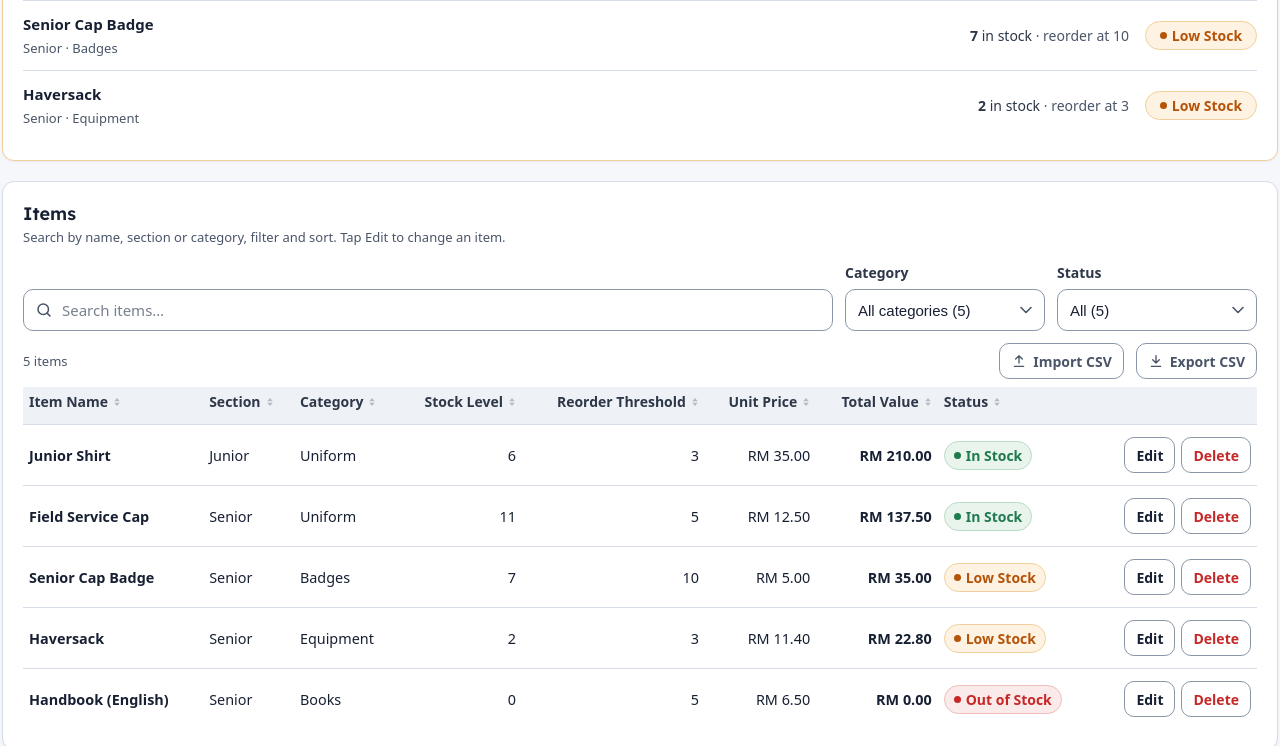
the app › edits a row; Total Value and Status update instantly as Stock or Price change
(page scrolled)
Click the button with aria-label "Edit Haversack". click: (1150, 638)
box: [1124,620,1176,656]
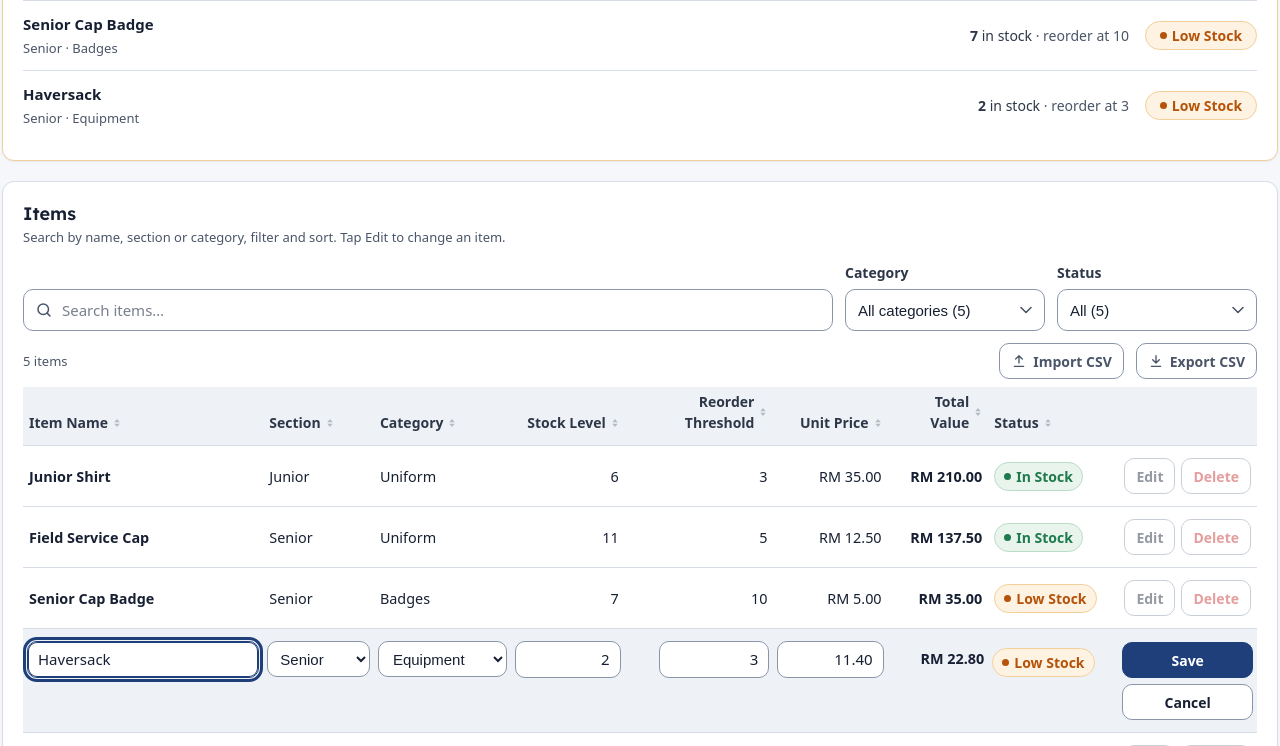
Expected: the cell "RM 22.80" is shown, [888,629,988,733]
Replace the text in the field named "Stock level" with "10". click: (568, 660)
box: [516,641,621,678]
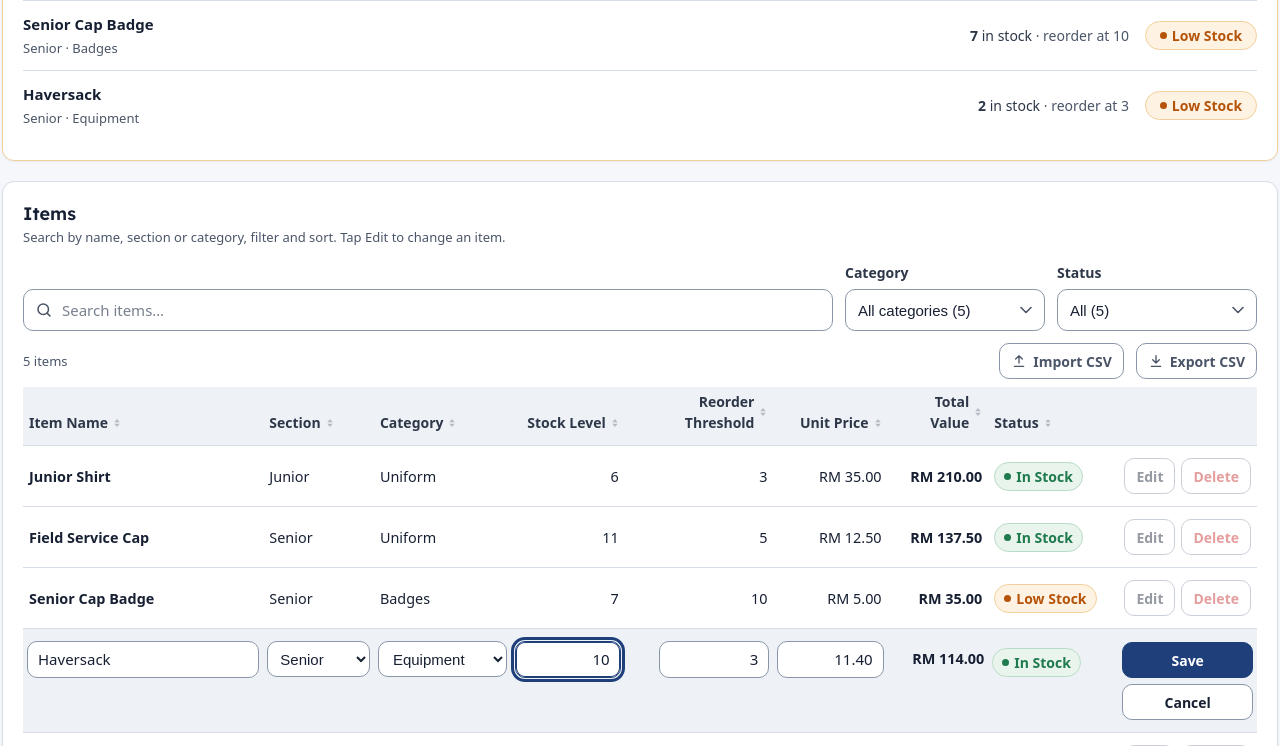
Expected: the cell "RM 114.00" is shown, [888,629,988,733]
Expected: the cell "In Stock" next to "RM 114.00" is shown, [1014,653,1071,672]
Replace the text in the field named "Unit price (RM)" with "12". click: (830, 660)
box: [777,641,884,678]
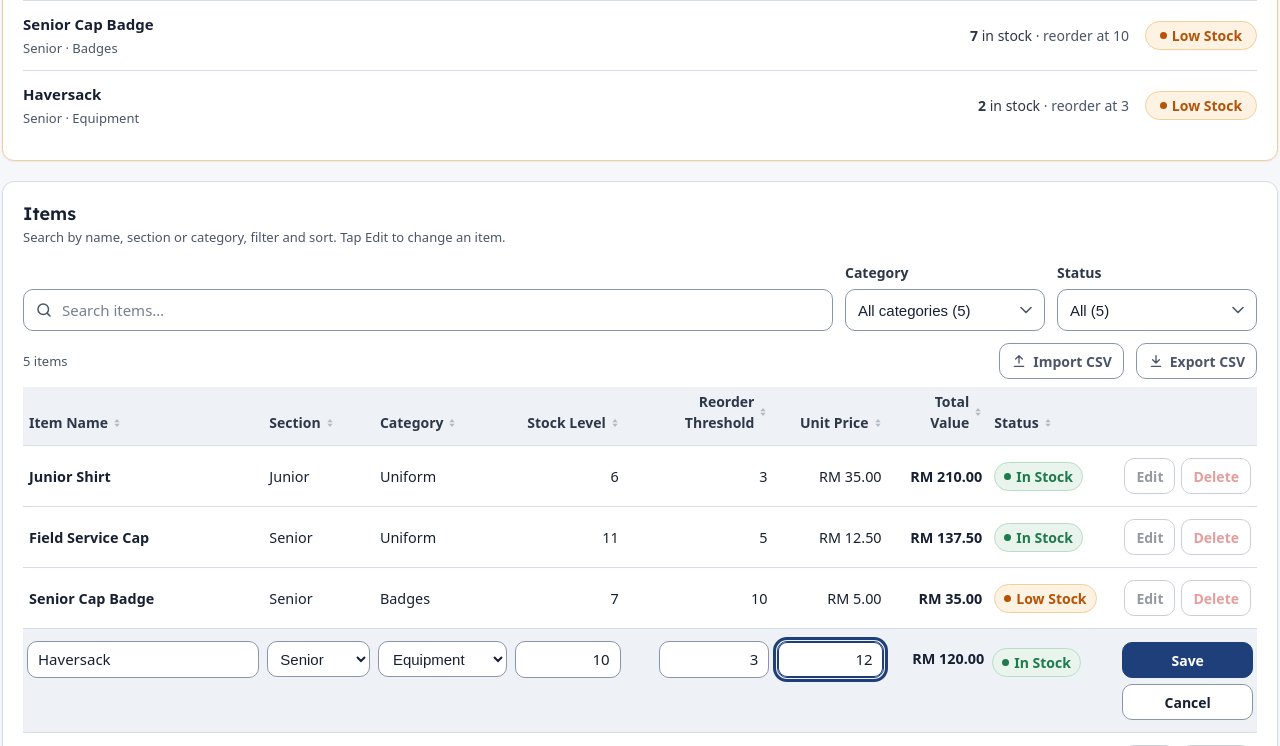
Expected: the cell "RM 120.00" is shown, [888,629,988,733]
Click the button "Save". click: (1188, 660)
box: [1122,642,1253,678]
(page scrolled)
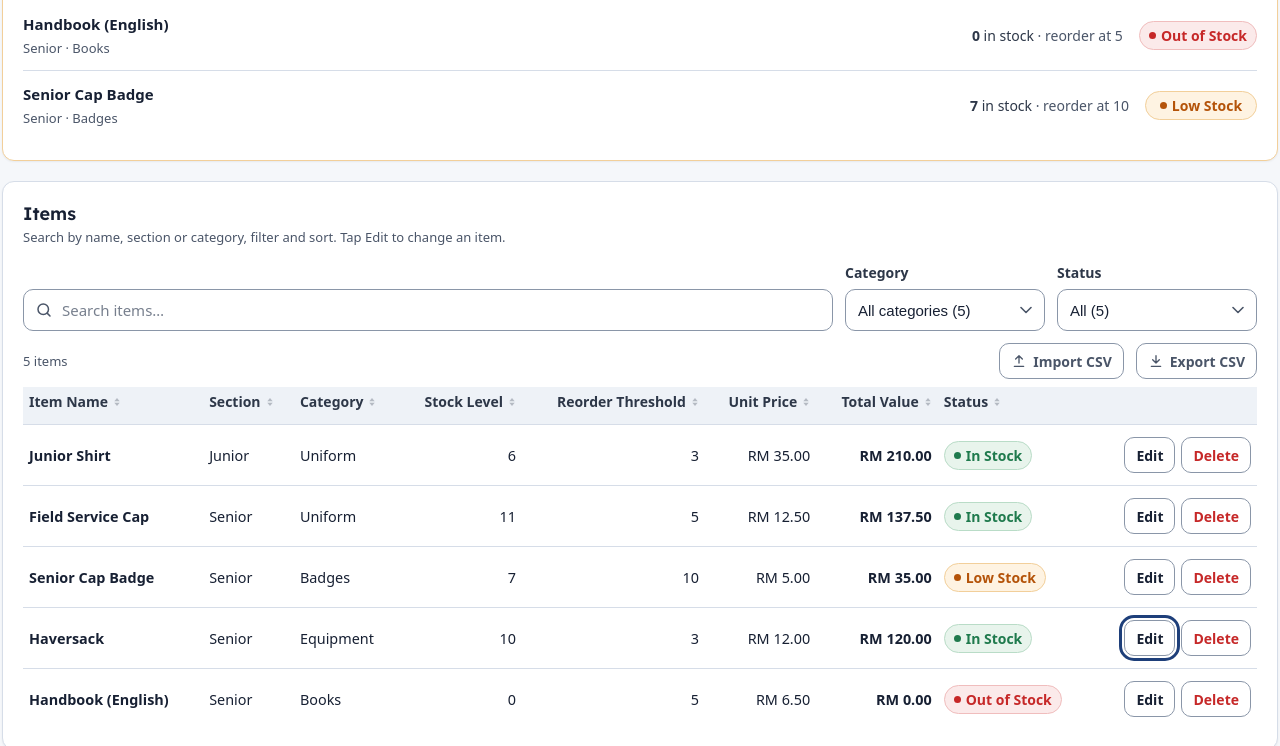
Expected: the cell "RM 120.00" is shown, [816,608,938,669]
Expected: the cell "10" in the row of "Haversack" is shown, [500,628,516,648]
Expected: the cell "RM 12.00" is shown, [705,608,816,669]
